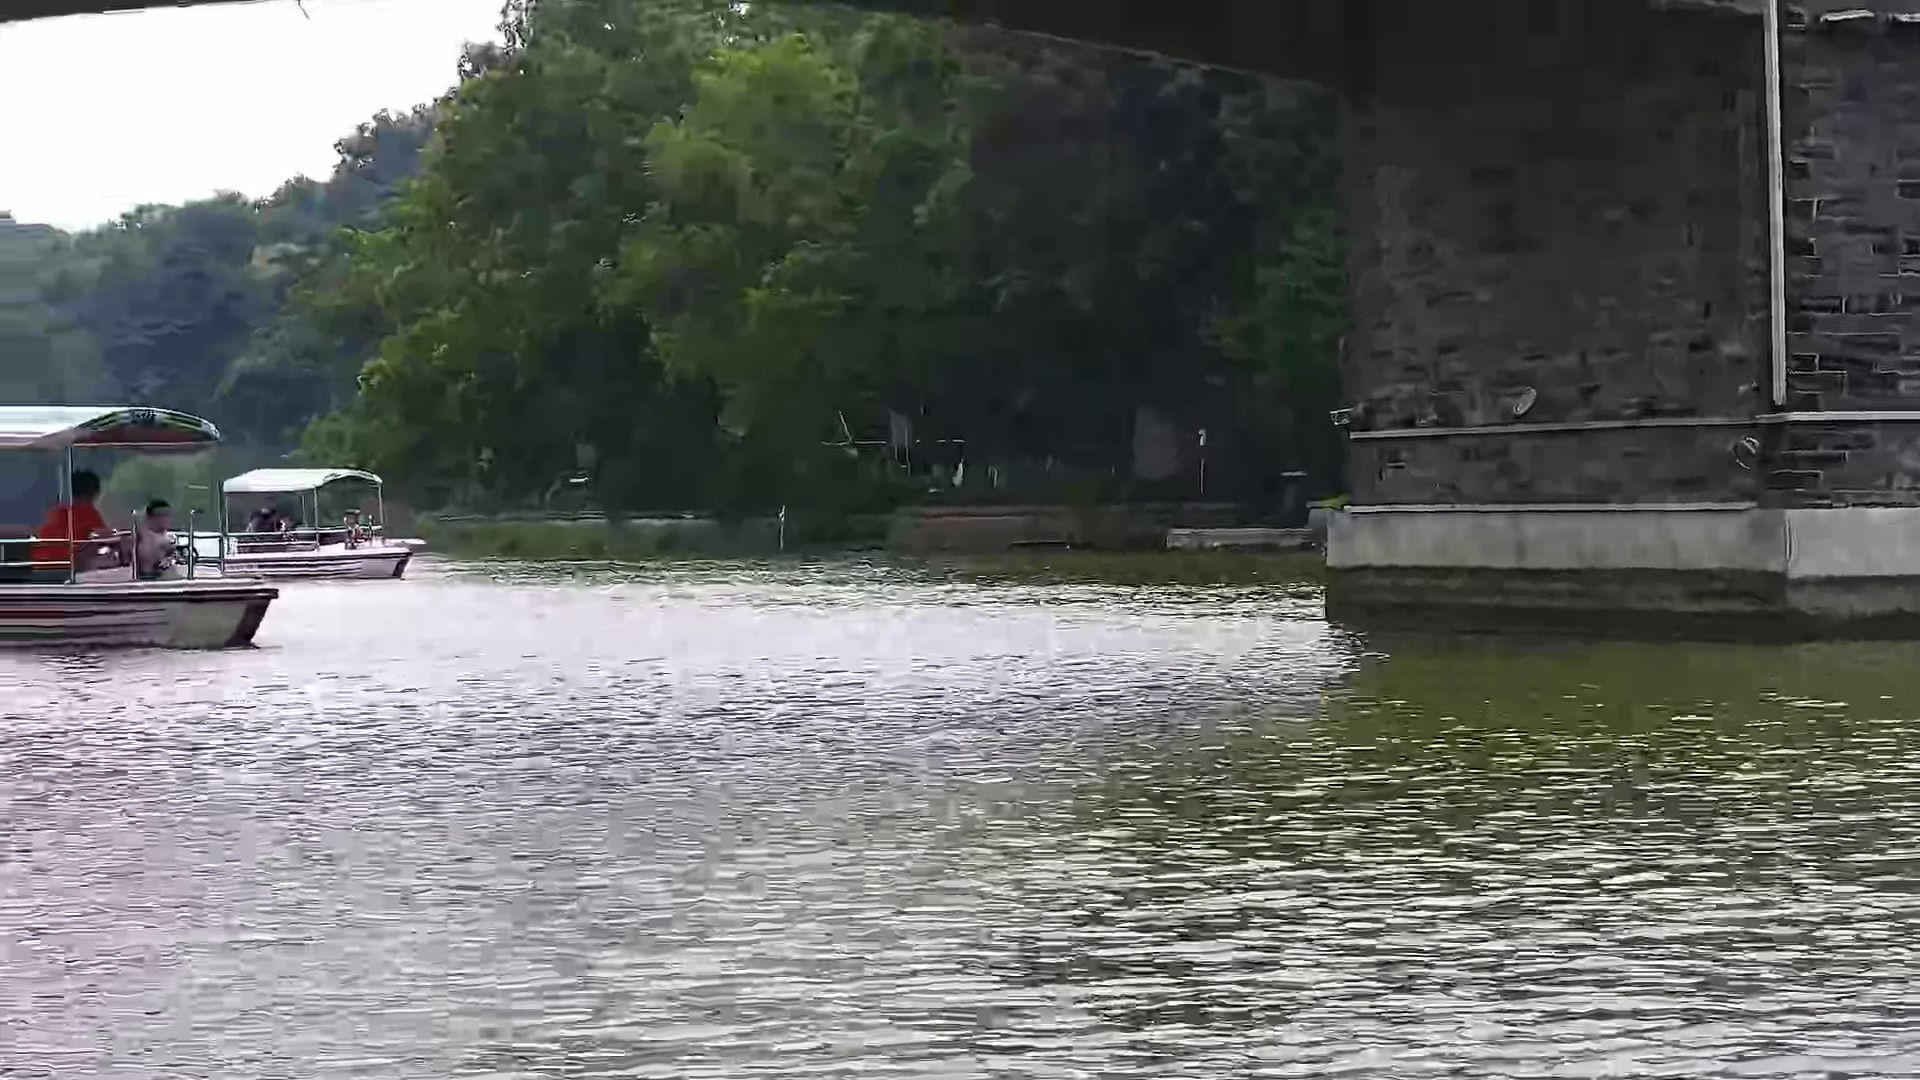boat: (3, 396, 270, 654), (214, 466, 416, 581)
person: (36, 467, 128, 568), (121, 501, 188, 575)
